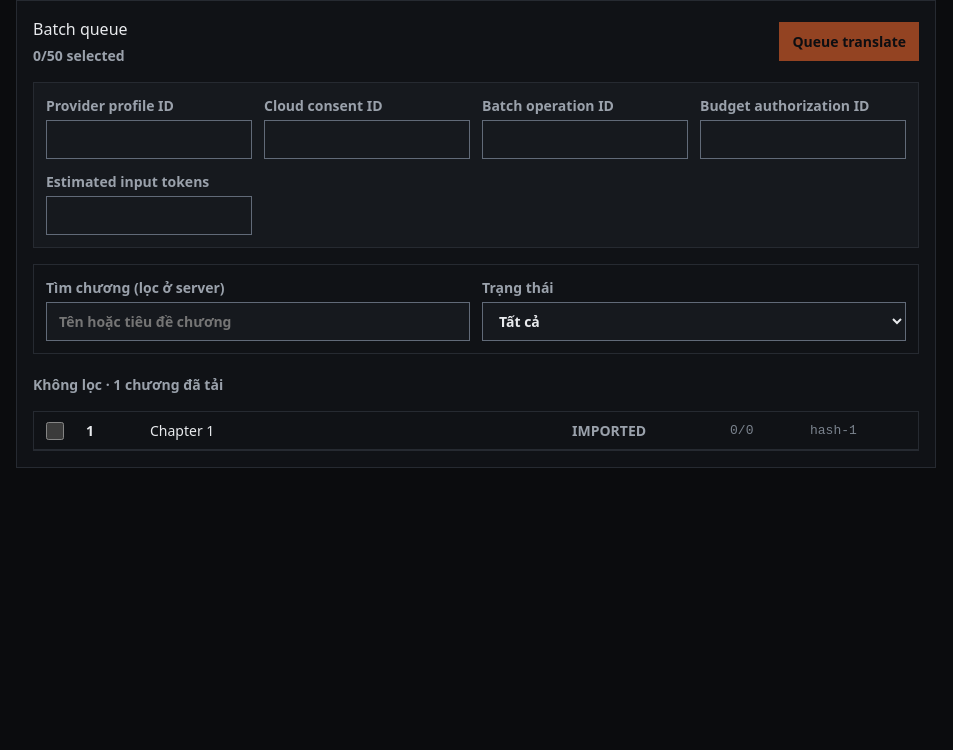
BatchQueue (U07 round 3 - theo dõi batch) › event RUNNING/SUCCEEDED cập nhật đúng dòng của job
This screenshot has width=953, height=750.
Expected: the text "Chapter 1" is shown, [150,421,214,440]
Click the checkbox at [55, 430], box [46,422,64,440]
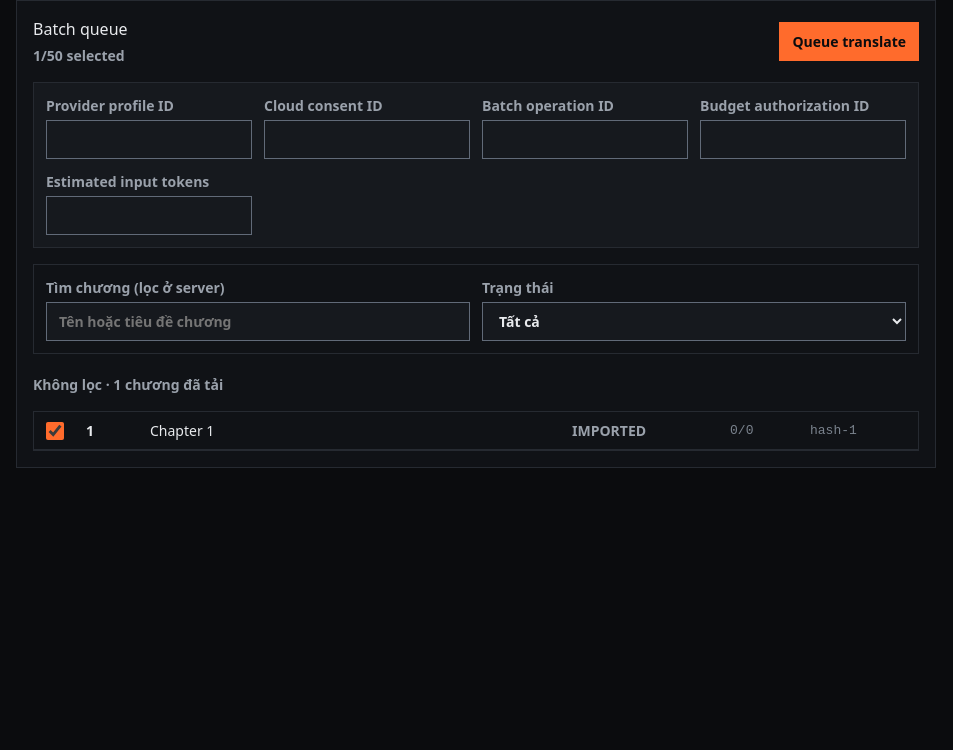
Expected: the text "1/50 selected" is shown, [33,45,128,66]
Type "prof-1" into the field labelled "Provider profile ID" at [149, 140], box [46,120,252,159]
Type "consent-1" into the field labelled "Cloud consent ID" at [367, 140], box [264,120,470,159]
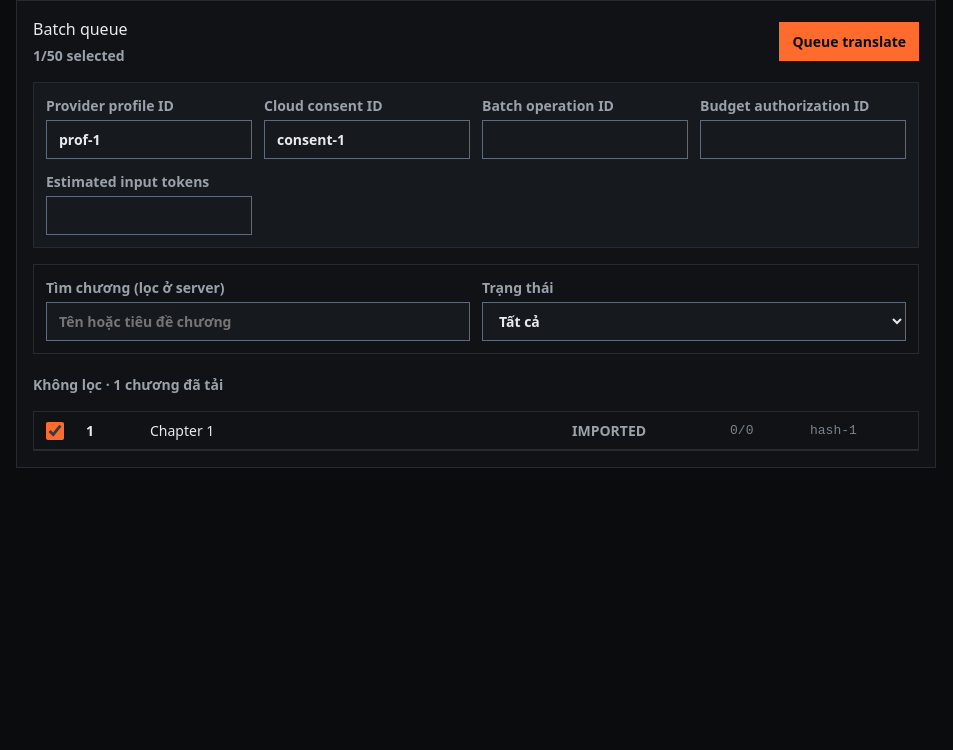
Type "quote-1" into the field labelled "Batch operation ID" at [585, 140], box [482,120,688,159]
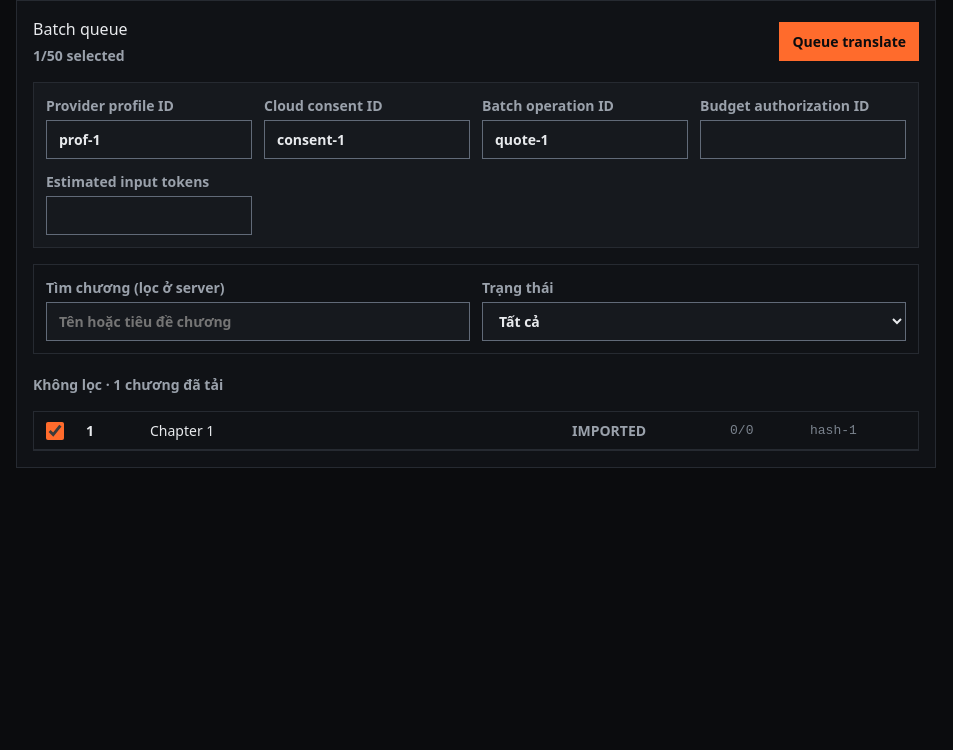
Type "budget-1" into the field labelled "Budget authorization ID" at [803, 140], box [700,120,906,159]
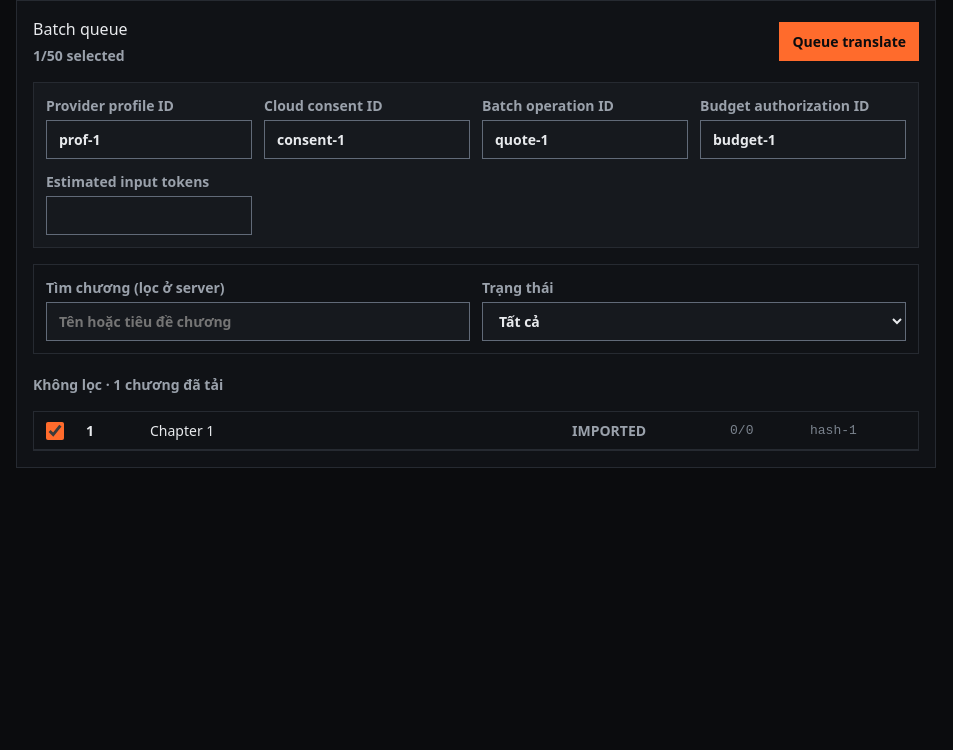
Type "120" into the field labelled "Estimated input tokens" at [149, 216], box [46,196,252,235]
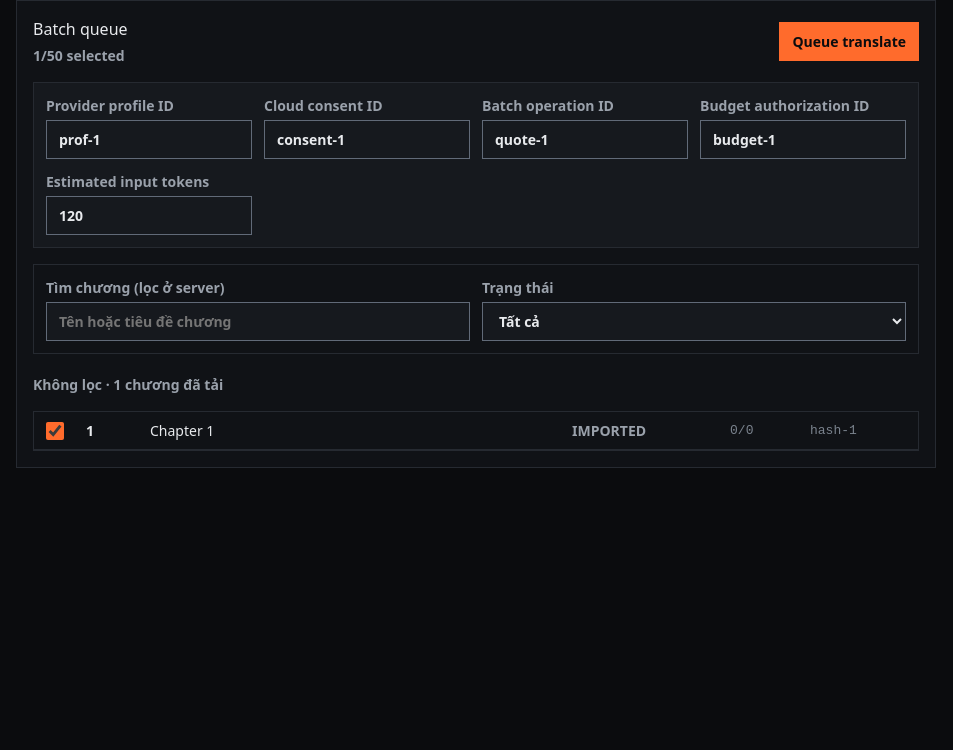
Click the button "Queue translate" at [849, 42], box [779,22,919,61]
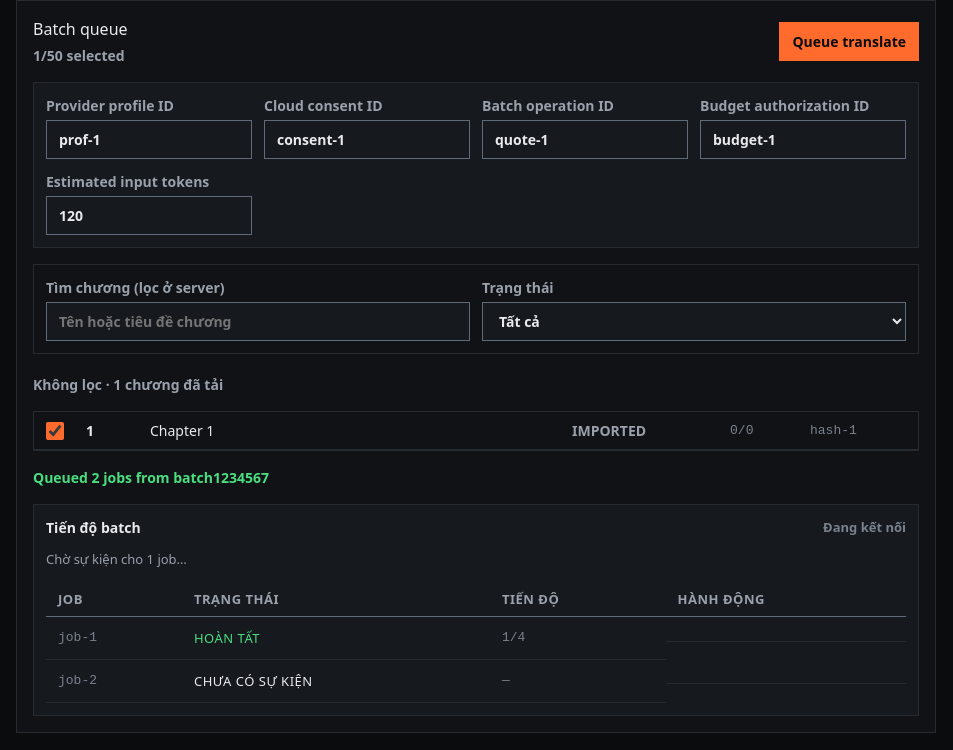
Expected: the text "Queued 2 jobs from batch1234567" is shown, [33,468,269,487]
Expected: the text "1/4" is shown, [490,616,666,659]
Expected: the text "Hoàn tất" is shown, [182,616,490,659]
